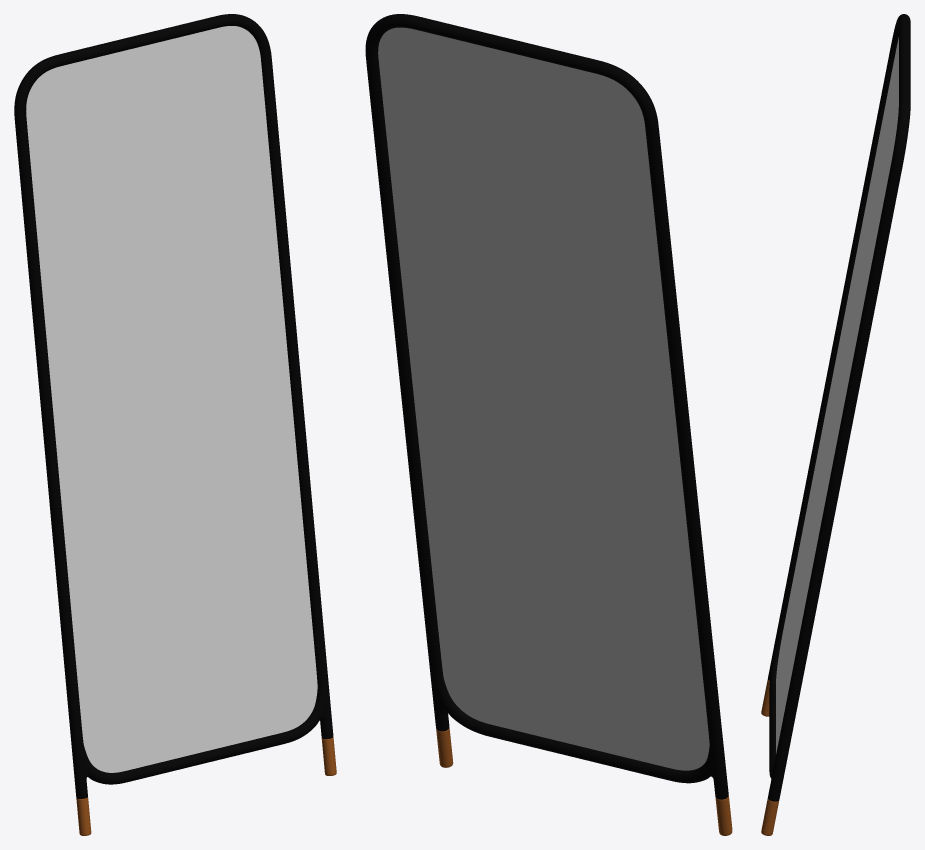
Rendered from Mirror_model.fbx.
3 renders of one model, left to right at view 1: azimuth 30°, elevation 25°; view 2: azimuth 150°, elevation 25°; view 3: azimuth 270°, elevation 25°, orthographic. The views are drawn at different scales.
Parts seen in each view (by area): view 1: Mirror 06; view 2: Mirror 06; view 3: Mirror 06.
Boxes of the visible parts, x1,y1,x2,y2 form: Mirror 06: [14, 14, 336, 835]; Mirror 06: [365, 14, 732, 835]; Mirror 06: [761, 14, 910, 835].
Bounding box in the file's own units: 24.64 × 66.2 × 12.54.
